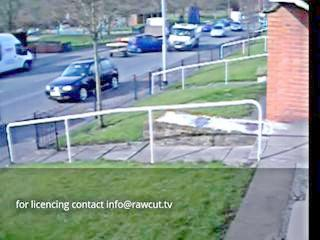Car: (57, 59, 118, 97), (110, 18, 166, 54), (0, 35, 33, 70), (170, 25, 200, 52), (130, 35, 168, 55), (211, 24, 224, 36), (231, 21, 243, 31)
Minor Accident: (111, 17, 166, 55)
